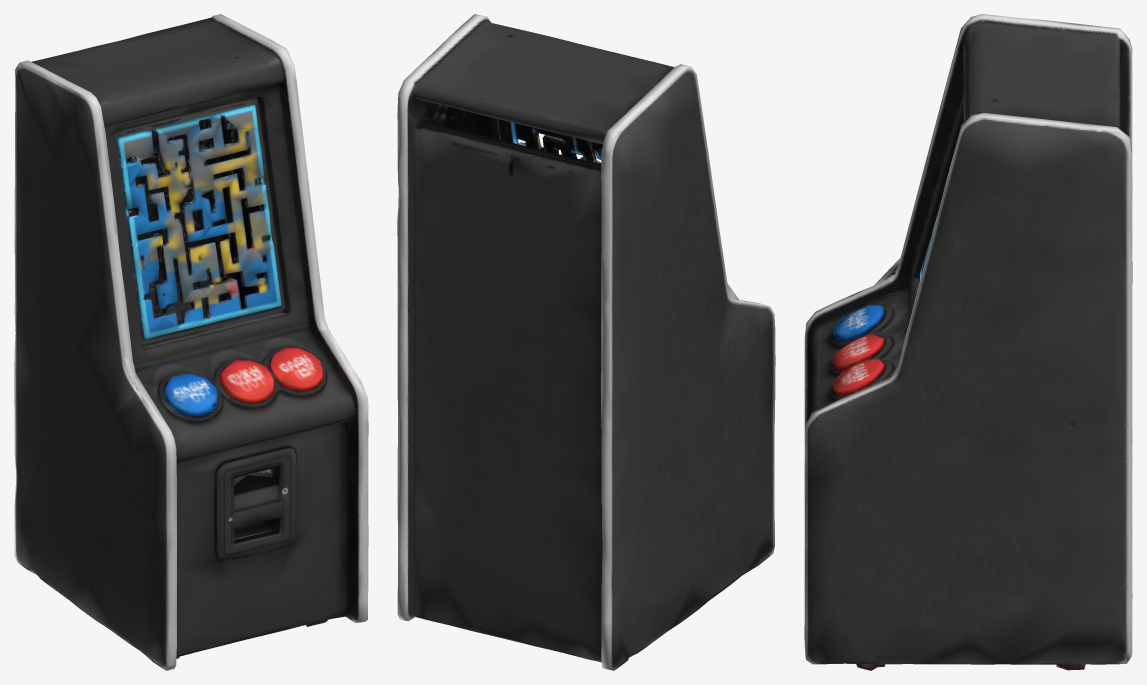
The model's file is Updated Actual Slot 2.glb.
3 renders of one model, left to right at view 1: azimuth 30°, elevation 25°; view 2: azimuth 150°, elevation 25°; view 3: azimuth 270°, elevation 25°, orthographic. The views are drawn at different scales.
Parts seen in each view (by area): view 1: Mesh1.0; view 2: Mesh1.0; view 3: Mesh1.0.
Boxes of the visible parts, x1,y1,x2,y2 form: Mesh1.0: [14, 14, 368, 670]; Mesh1.0: [397, 14, 775, 670]; Mesh1.0: [804, 14, 1132, 670].
Bounding box in the file's own units: 0.7604 × 1.91 × 1.01.
Materials: 1 (1 with a texture image).
